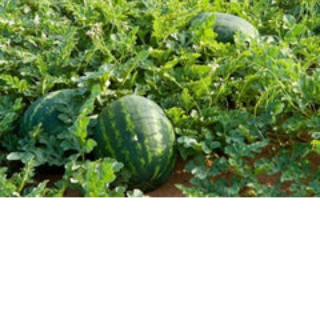dua_hau: (94, 93, 178, 195)
